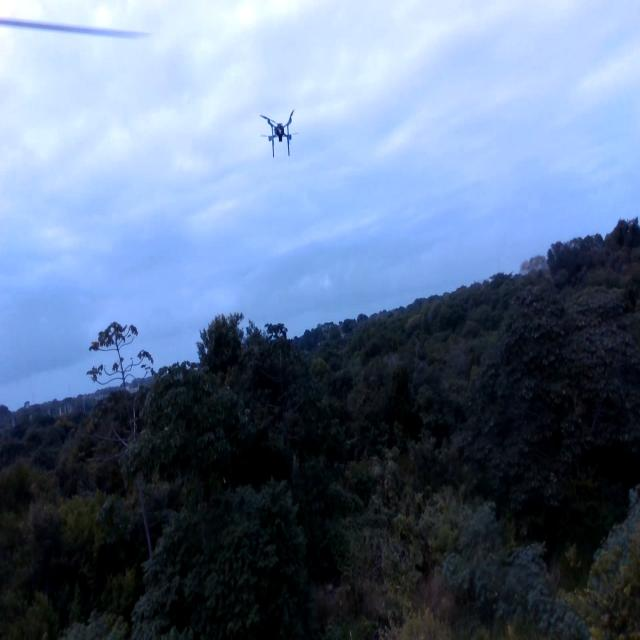-uav-: (255, 102, 301, 164)
